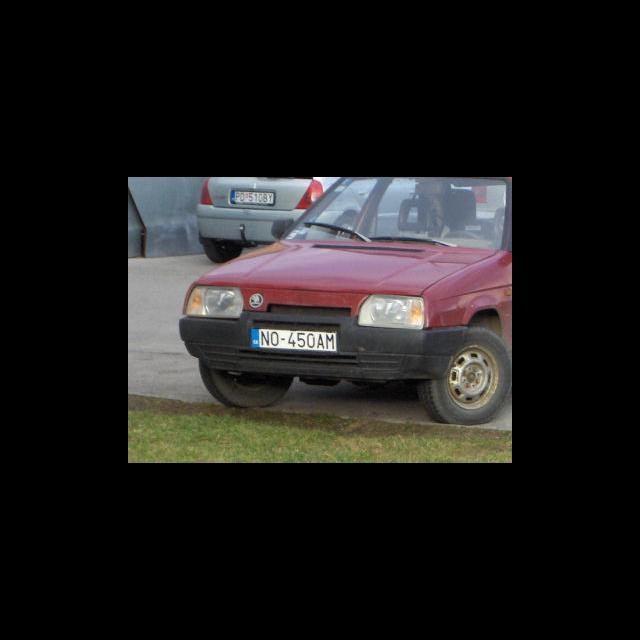Plate: (250, 328, 338, 353)
